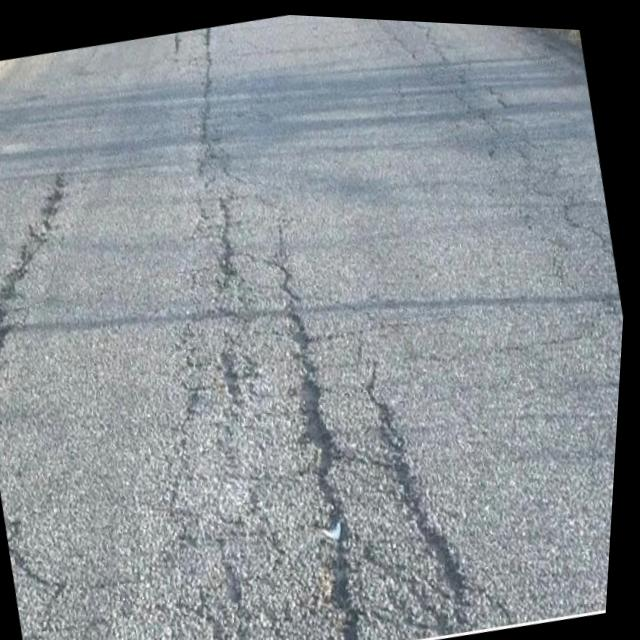Crack: (258, 355, 391, 633), (160, 77, 270, 312), (246, 243, 349, 426), (0, 162, 105, 322)
